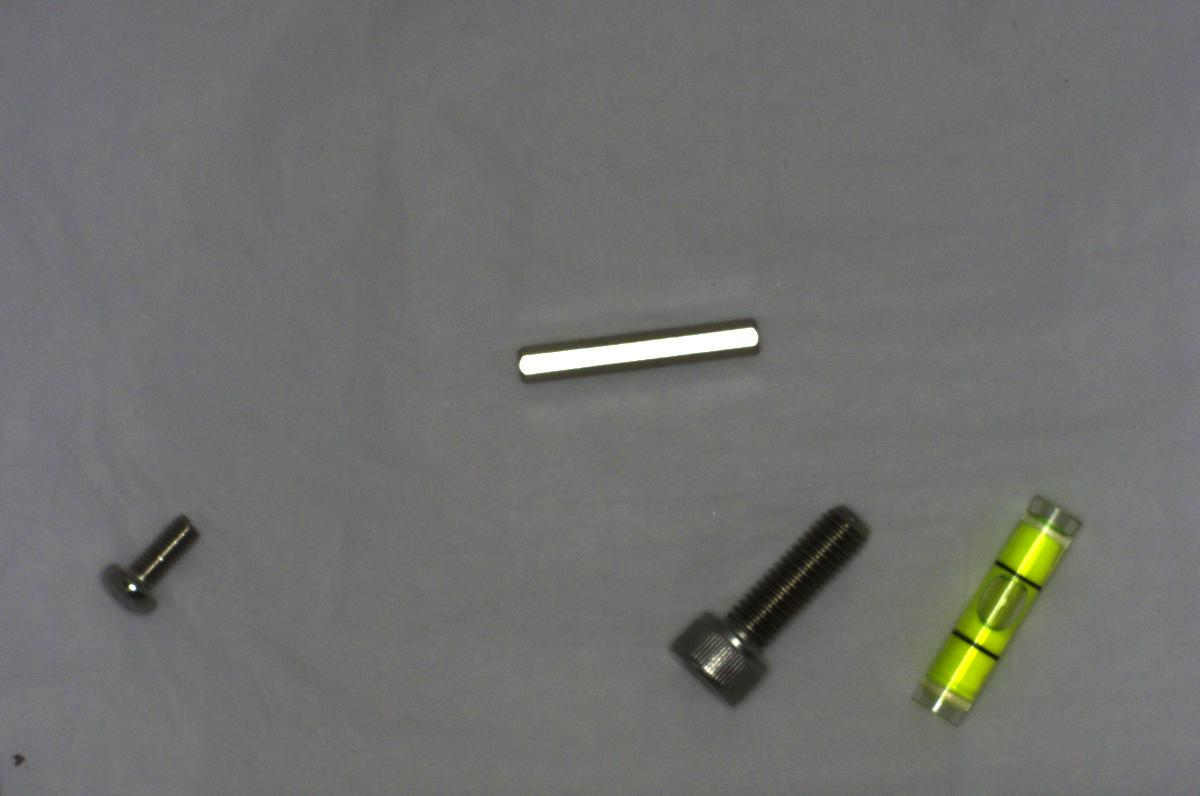Double hexagonal column: (504, 312, 777, 399)
Hexagon screw: (659, 495, 873, 700)
Horizontal bubble: (911, 488, 1084, 736)
Round head screw: (95, 510, 205, 609)
